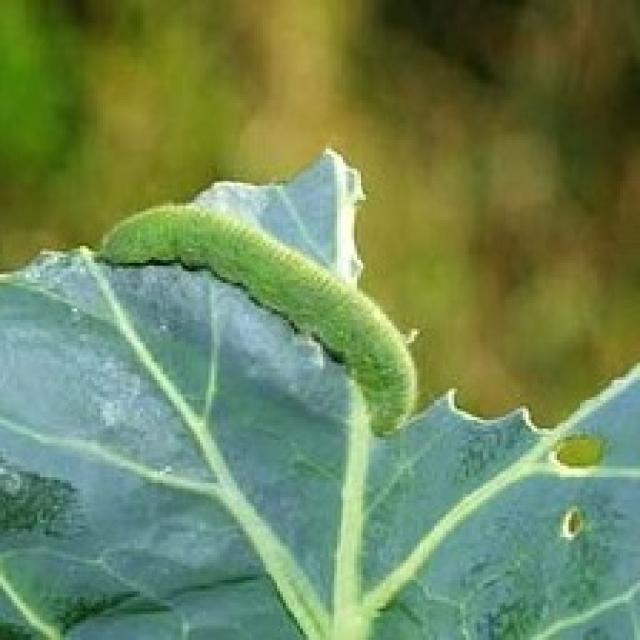Cabbage-worm: (96, 196, 422, 440)
